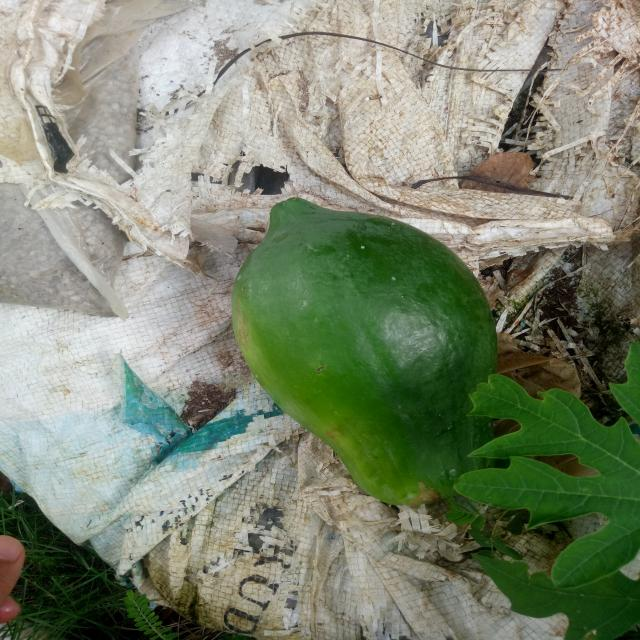Pepaya unrippen: (217, 198, 508, 508)
